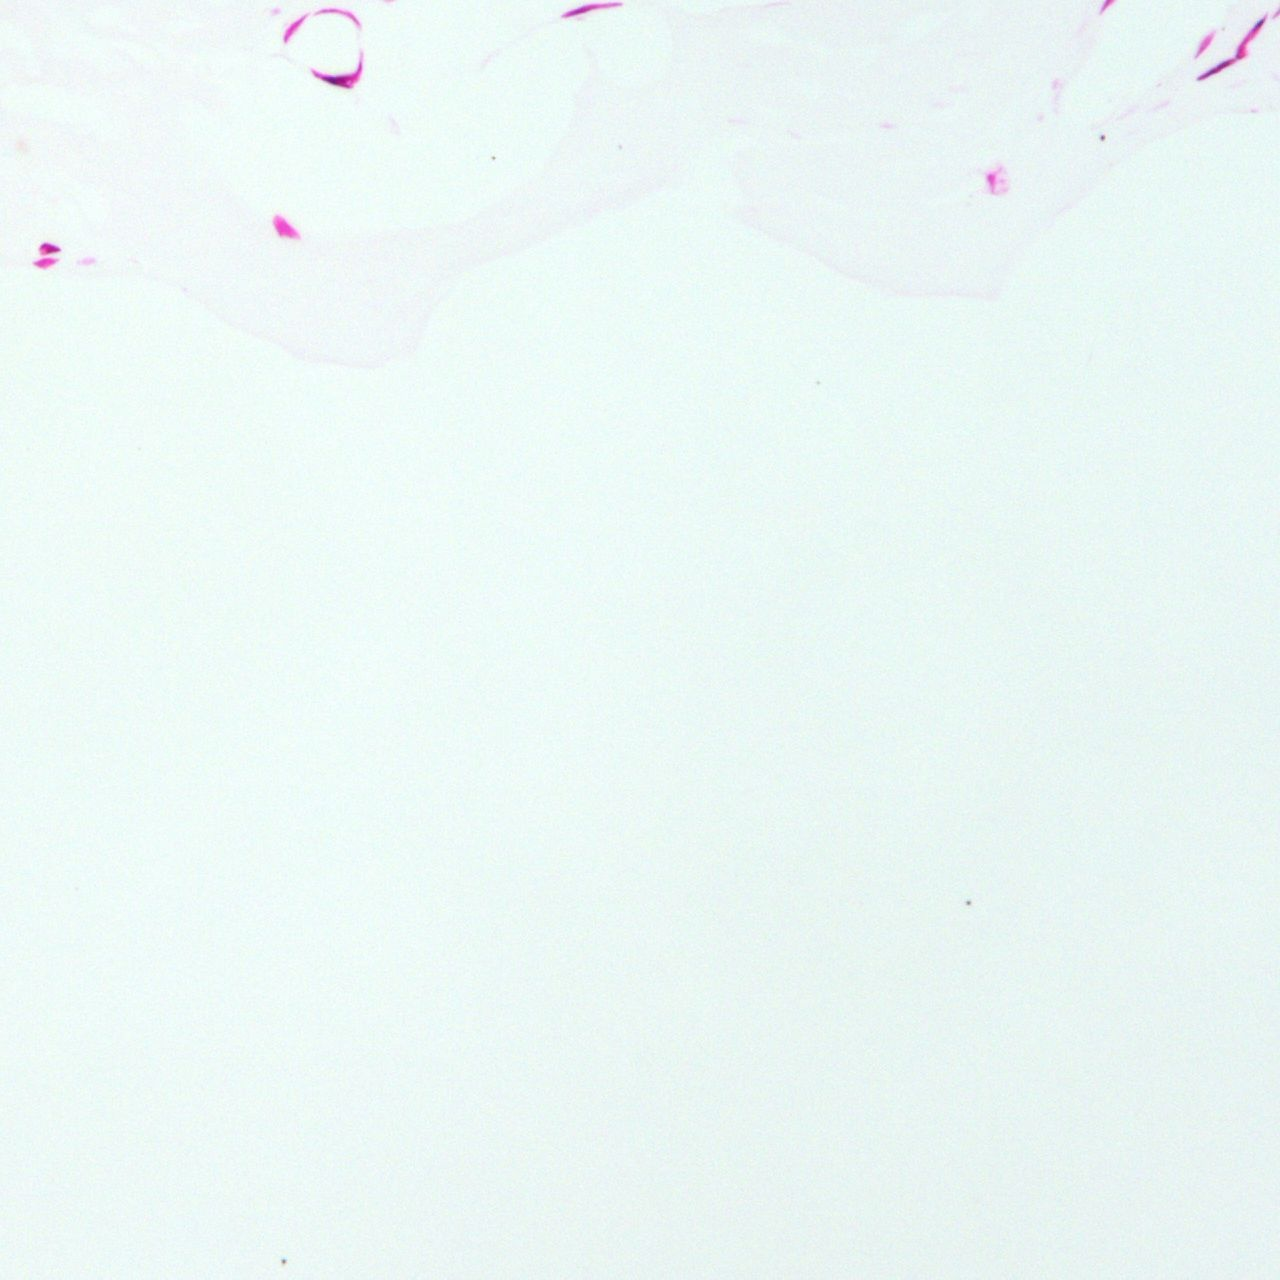dust: (1100, 134, 1105, 141), (965, 899, 970, 905)
nucleus-FG: (309, 60, 366, 95), (1233, 14, 1269, 55), (1194, 56, 1234, 84), (39, 239, 61, 255), (282, 1258, 285, 1263)
